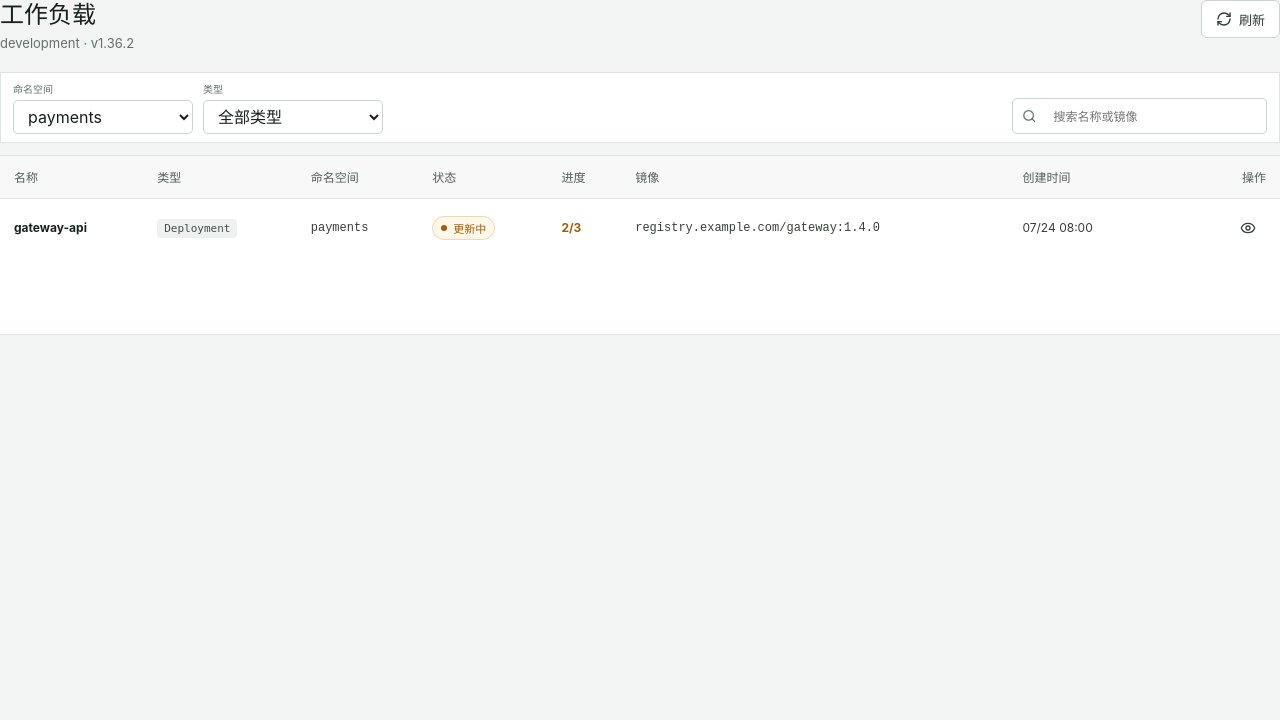
Test: WorkloadsPage › filters, refreshes and opens a deployment detail without loading events
This screenshot has width=1280, height=720.
Expected: the text "gateway-api" is shown, [14, 220, 87, 235]
Type "missing" into the search field named "搜索工作负载".
click(1150, 116); type("missing")  # box [1043, 97, 1257, 135]
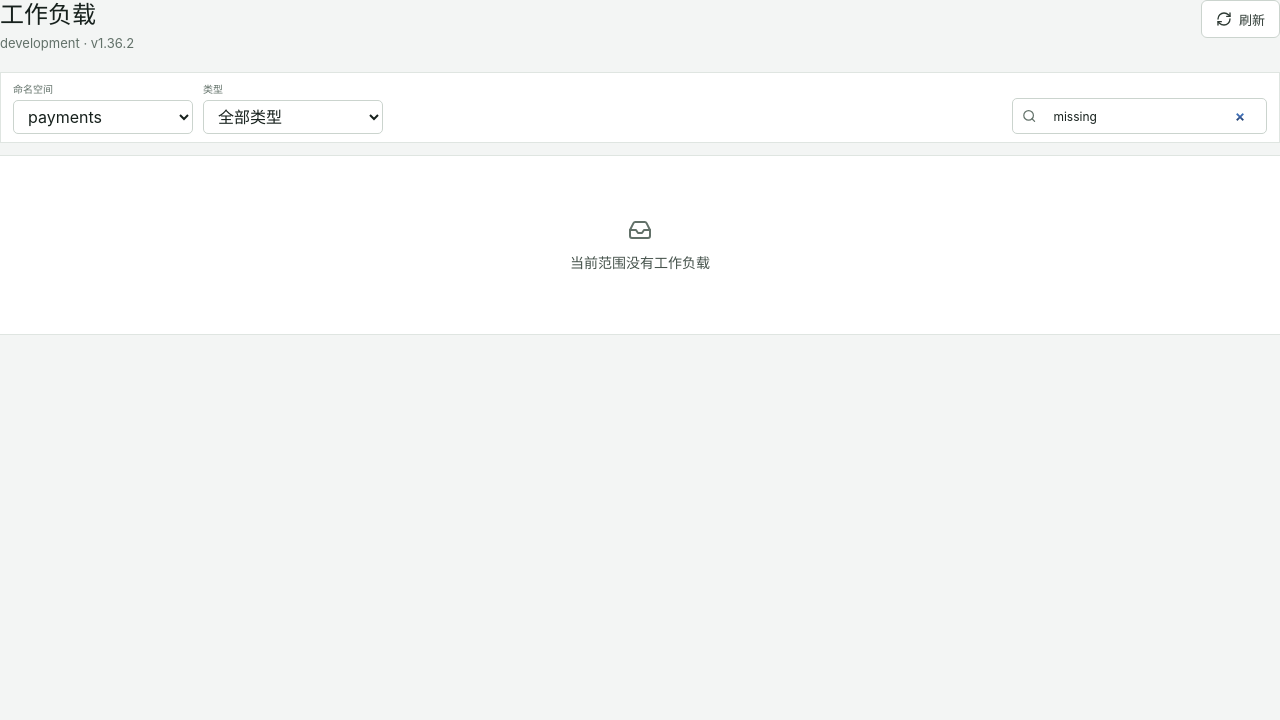
Result: the text "当前范围没有工作负载" is shown at [570, 252, 710, 272]
Clear the search field named "搜索工作负载" at coordinates (1150, 116), box [1043, 97, 1257, 135]
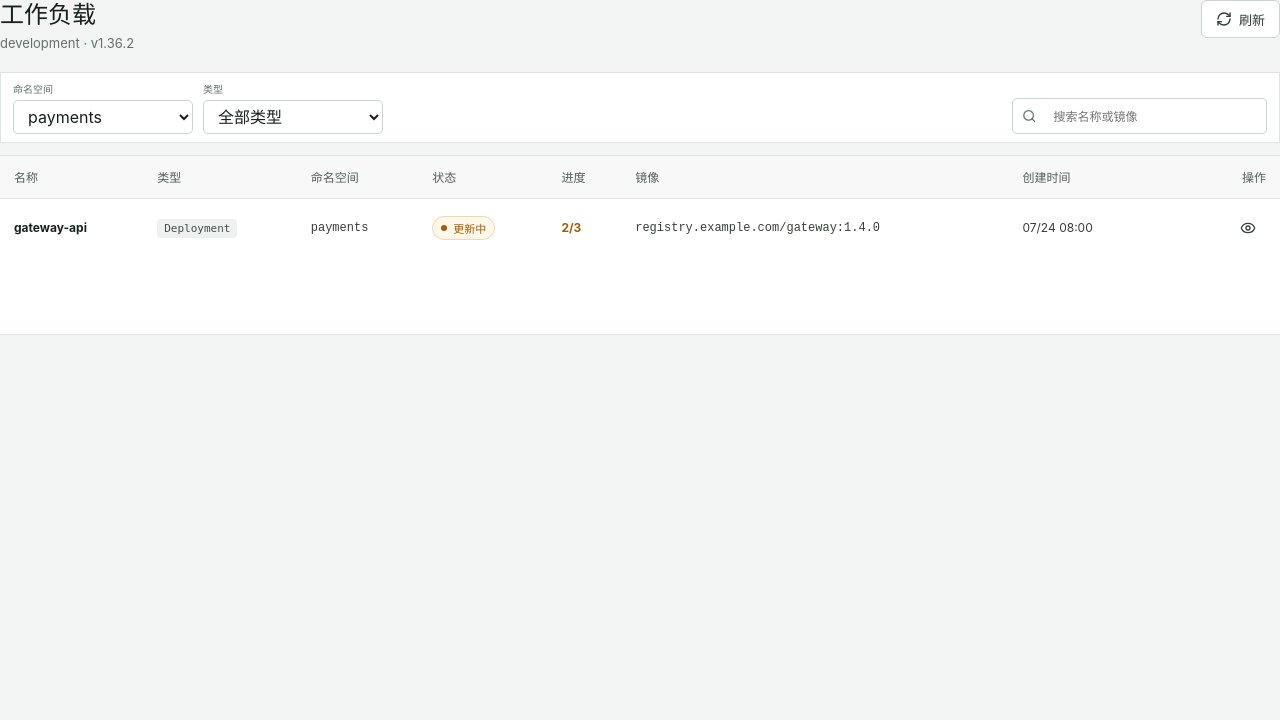
Select "Deployment" in the dropdown labelled "类型" at coordinates (293, 117), box [203, 100, 383, 134]
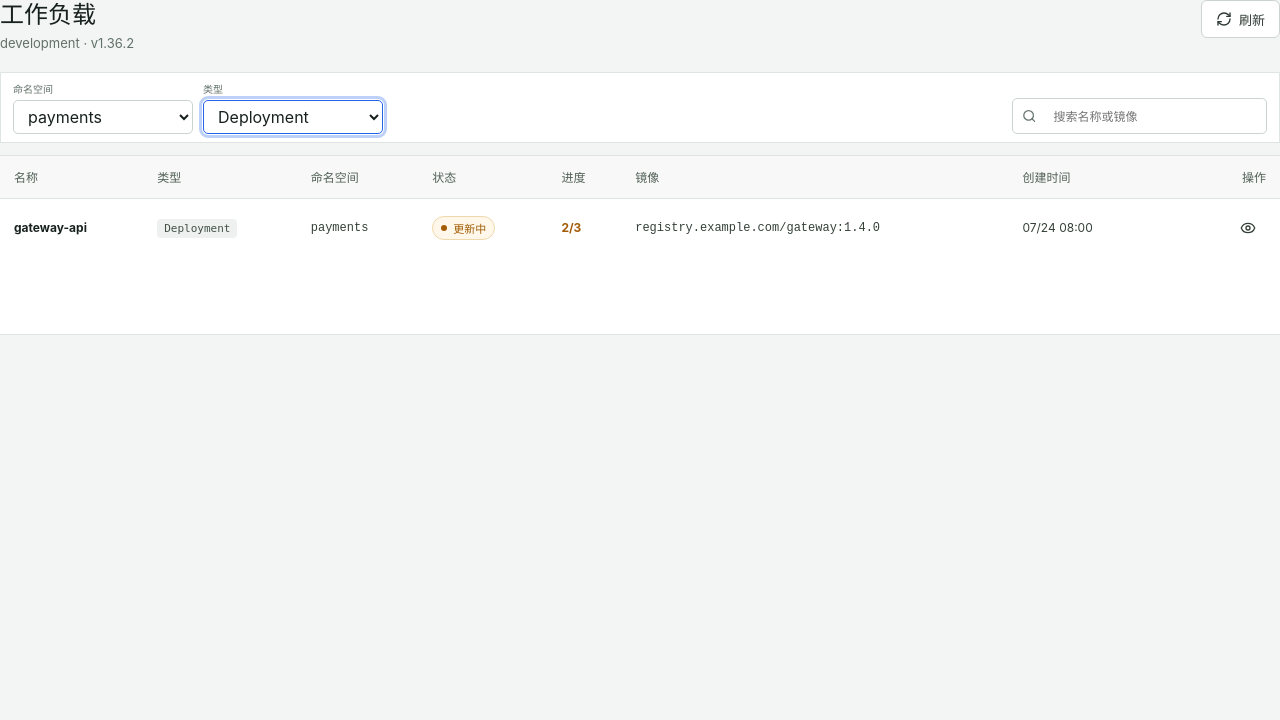
Result: the text "gateway-api" is shown at [14, 220, 87, 235]
Click the button "刷新".
click(1240, 19)  # box [1201, 0, 1279, 38]
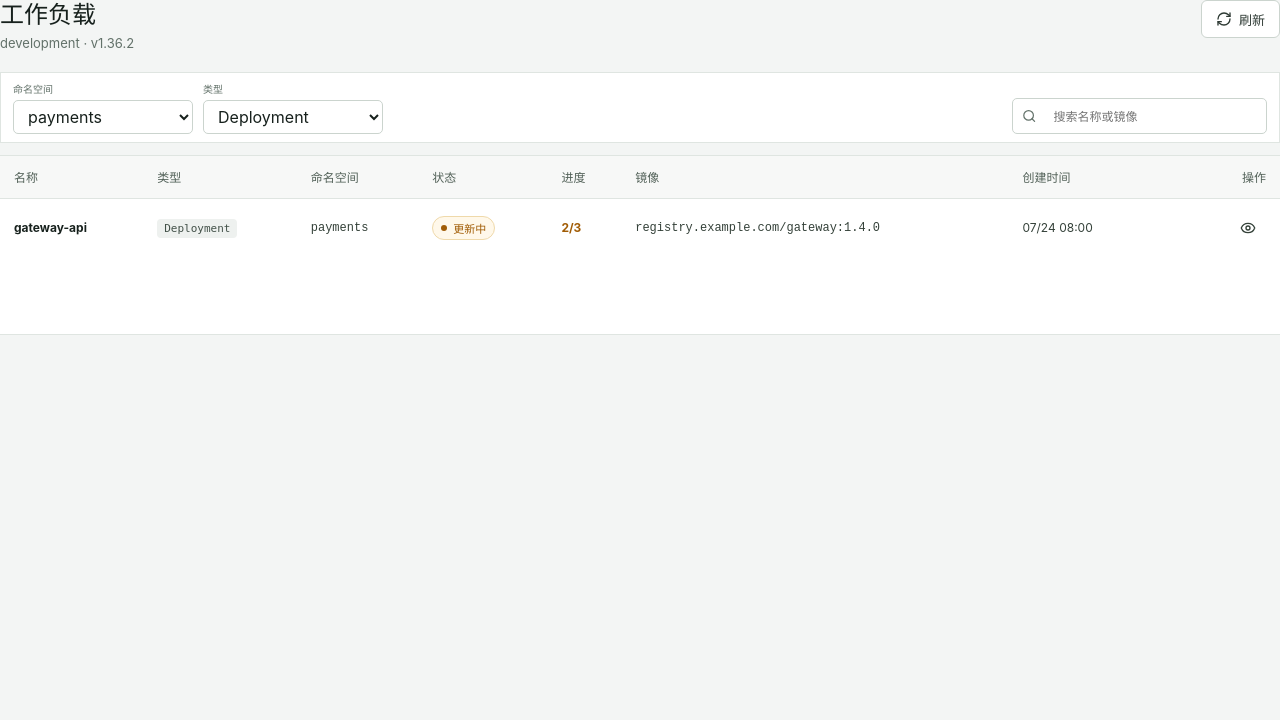
Click the button named "查看 gateway-api".
click(1248, 228)  # box [1230, 210, 1266, 246]
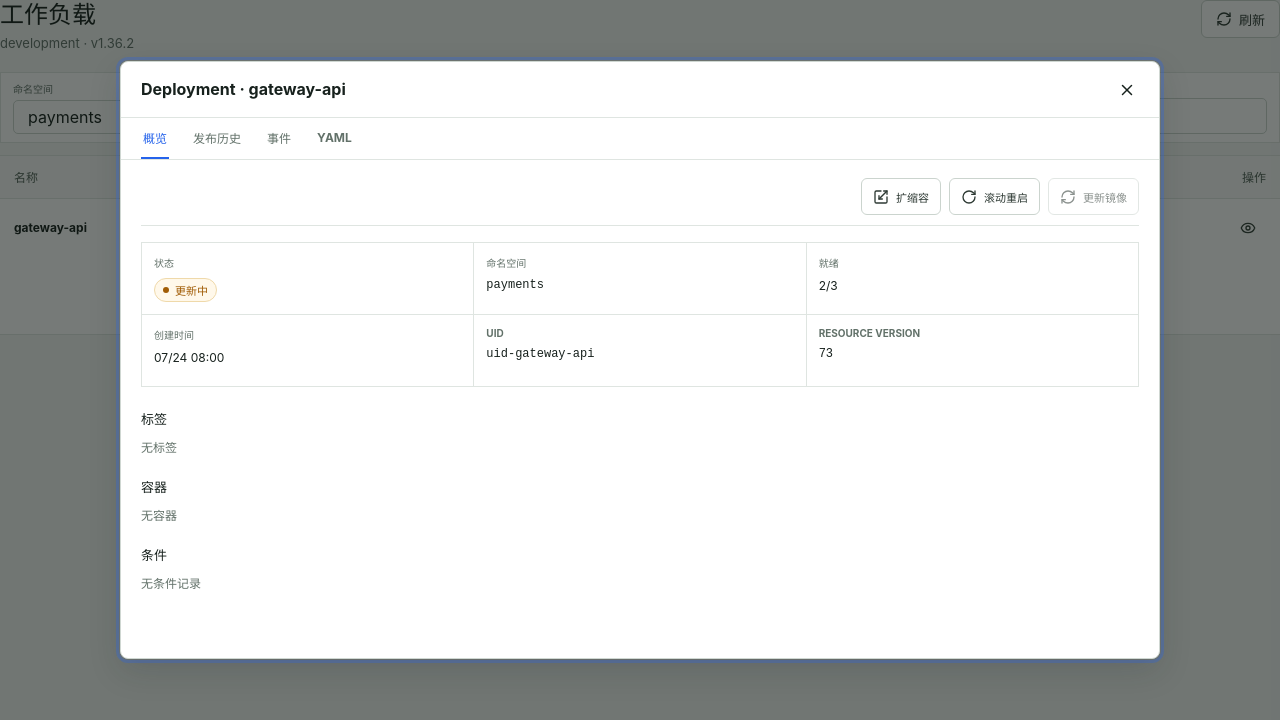
Result: the dialog "Deployment · gateway-api" is shown
Result: the button "扩缩容" is shown at [861, 178, 941, 215]
